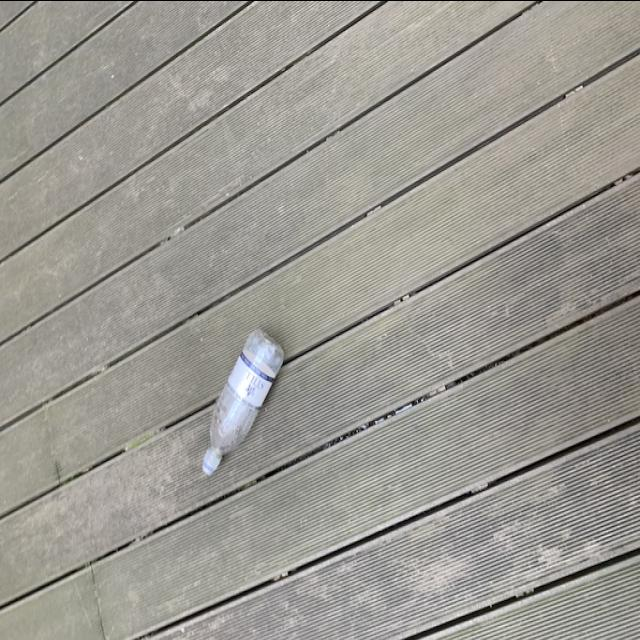litter: (200, 324, 288, 474)
